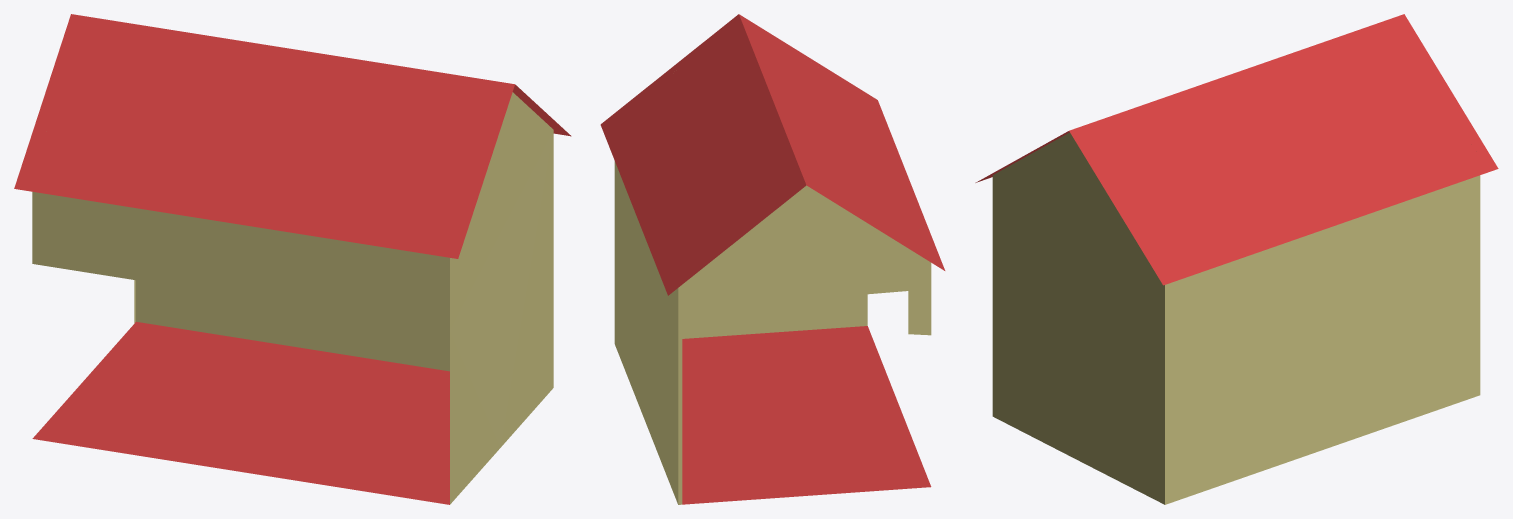
The picture shows the model from 3 angles, left to right: view 1: azimuth 30°, elevation 25°; view 2: azimuth 150°, elevation 25°; view 3: azimuth 270°, elevation 25°; orthographic projection. The views are drawn at different scales.
Size of the model in its own units: 19.52 by 20.24 by 14.21.
